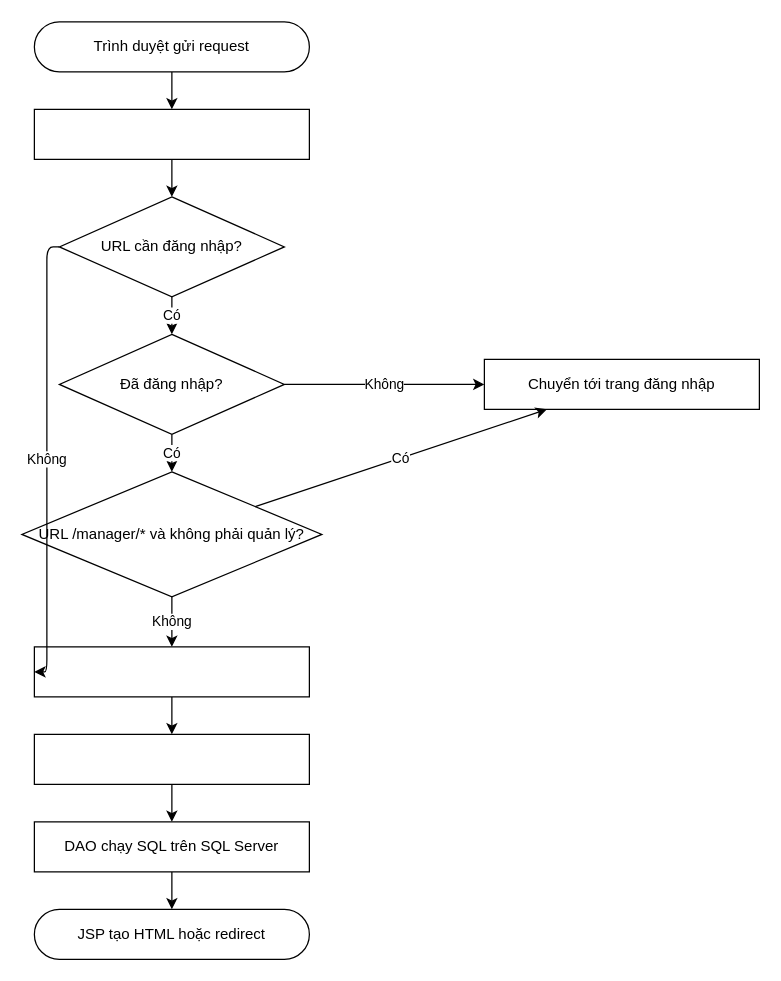
The diagram is 781 pixels wide and 981 high, and some of its shapes have lost their labels. Each missing label, with the box of its shape:
Service kiểm tra nghiệp vụ: (33, 733, 309, 784)
Servlet đọc tham số: (33, 646, 309, 697)
Utf8Filter đặt mã UTF-8: (33, 108, 309, 159)
